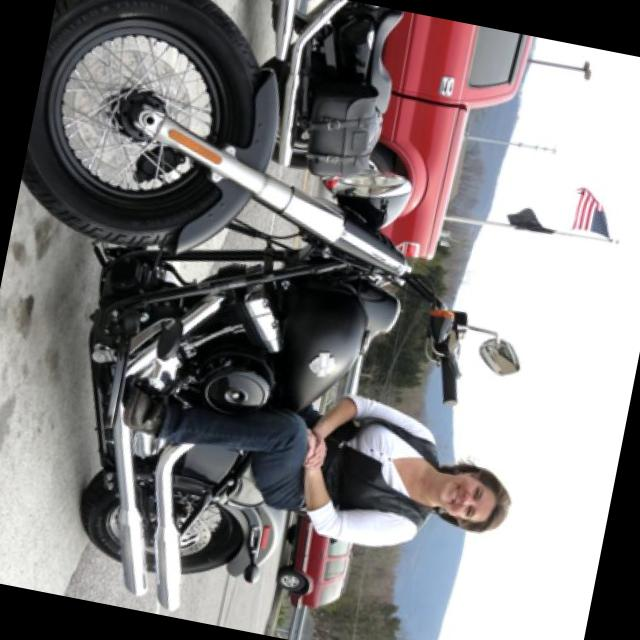bareface: (412, 443, 528, 551)
